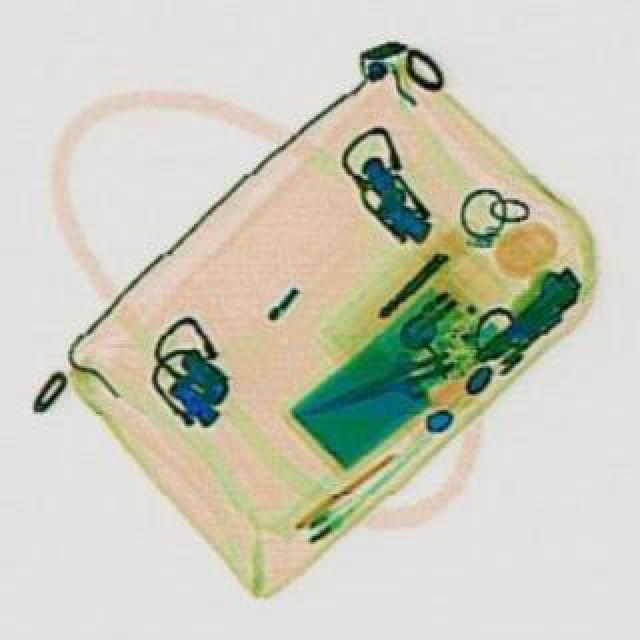knife: (302, 344, 454, 420)
